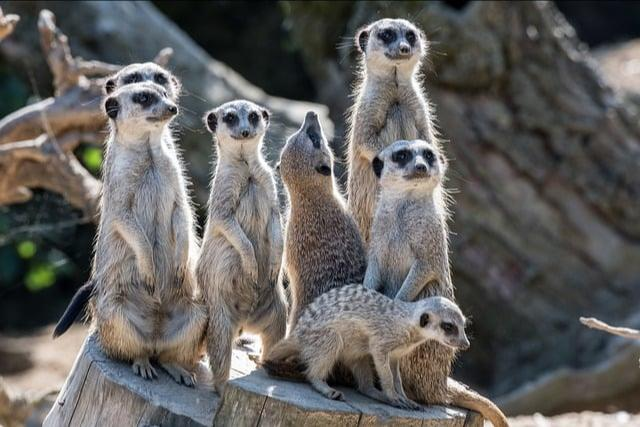Non_Gorille: (88, 5, 528, 398)
